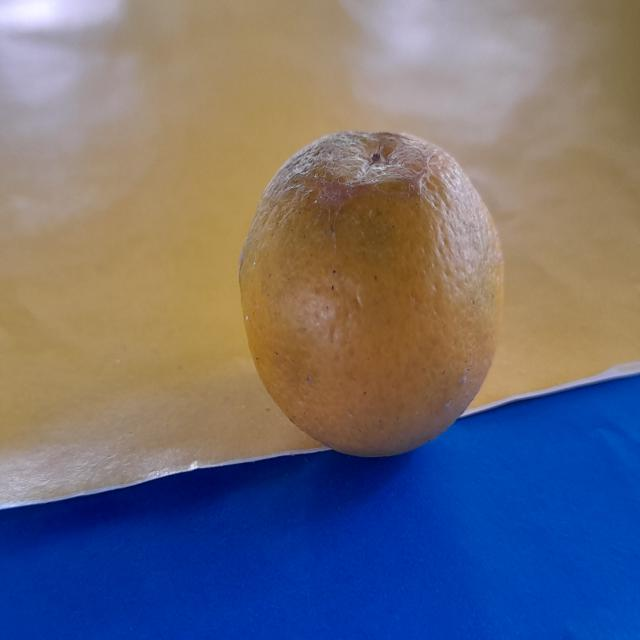greening: (232, 100, 515, 463)
